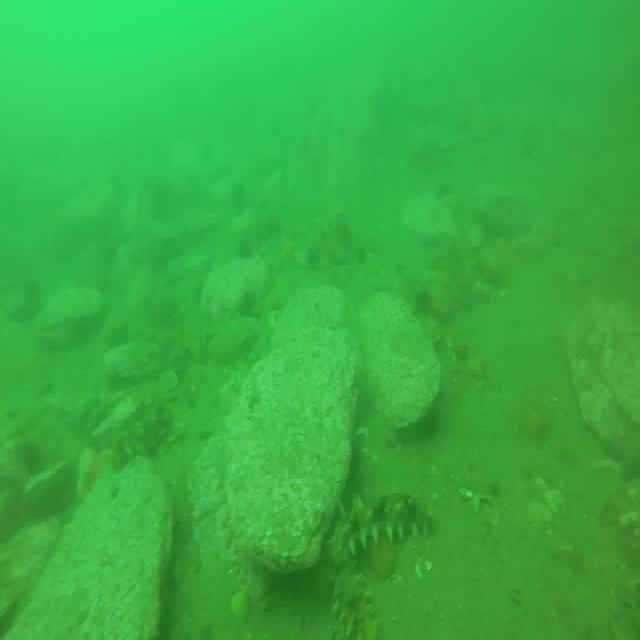echinus: (412, 284, 434, 313), (238, 291, 258, 318), (306, 241, 320, 271)
holothurian: (323, 496, 432, 640), (108, 398, 177, 476)
